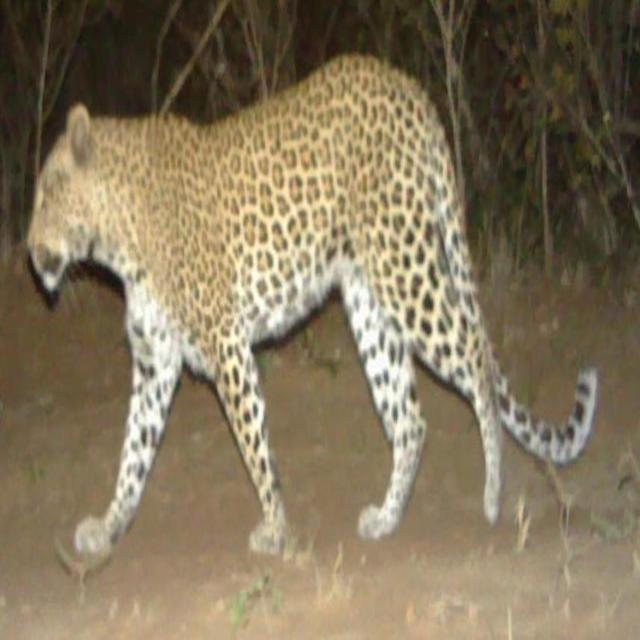Leopard: (28, 65, 602, 588)
